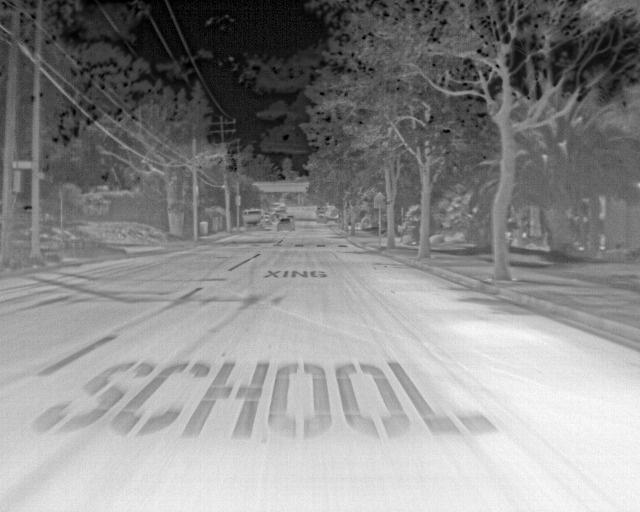car: (240, 206, 264, 229), (276, 212, 294, 229), (257, 209, 273, 225), (269, 202, 284, 217)
